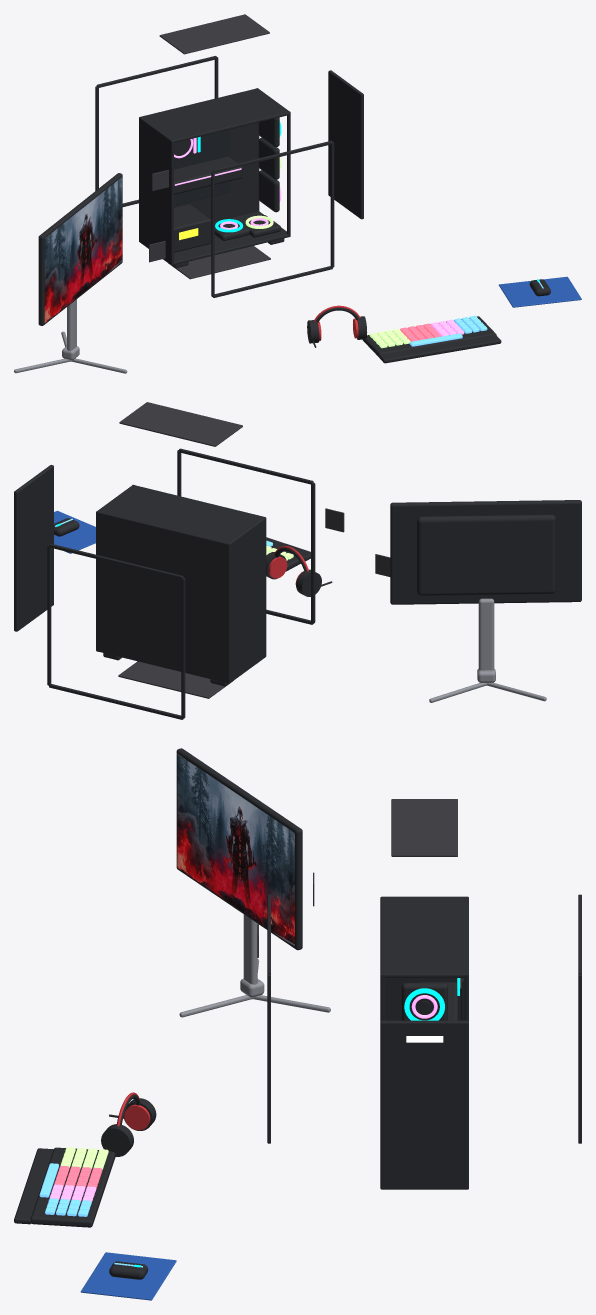
The model's file is computadoraa.glb.
The picture shows the model from 3 angles, top to bottom: view 1: azimuth 30°, elevation 25°; view 2: azimuth 150°, elevation 25°; view 3: azimuth 270°, elevation 25°; orthographic projection. The views are drawn at different scales.
Parts seen in each view (by area): view 1: Monitor_Pantalla, Panel_Frontal, Torre_Techo, Torre_Lateral_Posterior, Torre_Pared_Trasera, Filtro_Superior, Panel_Lateral_Frontal_Marco, Placa_Base, Alfombrilla, Torre_Fondo, GPU, Filtro_Inferior (+14 smaller); view 2: Torre_Pared_Trasera, Monitor_Carcasa, Monitor_Marco, Panel_Frontal, Torre_Techo, Torre_Lateral_Posterior, Filtro_Superior, Panel_Lateral_Trasero_Marco, Filtro_Inferior, Panel_Lateral_Frontal_Marco, Monitor_Cuello, Alfombrilla (+2 smaller); view 3: Panel_Frontal, Monitor_Pantalla, Torre_Techo, Filtro_Superior, Alfombrilla, Monitor_Marco, Teclado_Base, Teclado_Reposamuñecas, Torre_Lateral_Posterior, Ventilador_Frontal_1, Teclas_Azul, Panel_Lateral_Trasero_Marco (+6 smaller).
Boxes of the visible parts, x1,y1,x2,y2 form: Monitor_Pantalla: (44, 177, 122, 322); Panel_Frontal: (328, 70, 363, 219); Torre_Techo: (139, 88, 289, 142); Torre_Lateral_Posterior: (139, 116, 173, 265); Torre_Pared_Trasera: (139, 89, 258, 239); Filtro_Superior: (159, 14, 269, 54); Panel_Lateral_Frontal_Marco: (211, 140, 334, 297); Placa_Base: (174, 129, 229, 205); Alfombrilla: (498, 276, 581, 307); Torre_Fondo: (139, 211, 289, 265); GPU: (174, 156, 242, 194); Filtro_Inferior: (168, 245, 270, 279); Torre_Pared_Trasera: (97, 511, 230, 682); Monitor_Carcasa: (417, 514, 555, 595); Monitor_Marco: (390, 500, 581, 604); Panel_Frontal: (14, 465, 53, 631); Torre_Techo: (97, 485, 266, 545); Torre_Lateral_Posterior: (227, 517, 266, 682); Filtro_Superior: (119, 402, 242, 446); Panel_Lateral_Trasero_Marco: (47, 543, 185, 719); Filtro_Inferior: (118, 661, 232, 698); Panel_Lateral_Frontal_Marco: (177, 448, 315, 624); Monitor_Cuello: (478, 598, 494, 670); Alfombrilla: (54, 510, 95, 553); Panel_Frontal: (380, 1020, 468, 1189); Monitor_Pantalla: (177, 754, 294, 946); Torre_Techo: (380, 896, 468, 977); Filtro_Superior: (391, 799, 457, 856); Alfombrilla: (80, 1252, 176, 1300); Monitor_Marco: (176, 748, 302, 950); Teclado_Base: (30, 1147, 115, 1227); Teclado_Reposamuñecas: (14, 1148, 53, 1224); Torre_Lateral_Posterior: (382, 896, 467, 1020); Ventilador_Frontal_1: (401, 983, 447, 1020); Teclas_Azul: (39, 1163, 91, 1216); Panel_Lateral_Trasero_Marco: (578, 894, 581, 1143).
Size of the model in its own units: 2.17 by 0.923 by 1.53.
Materials: 67 (1 with a texture image).
